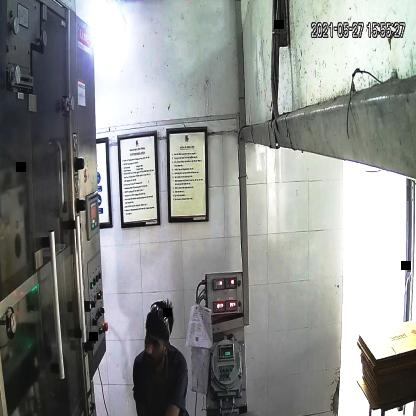no_goggles: (140, 332, 168, 352)
